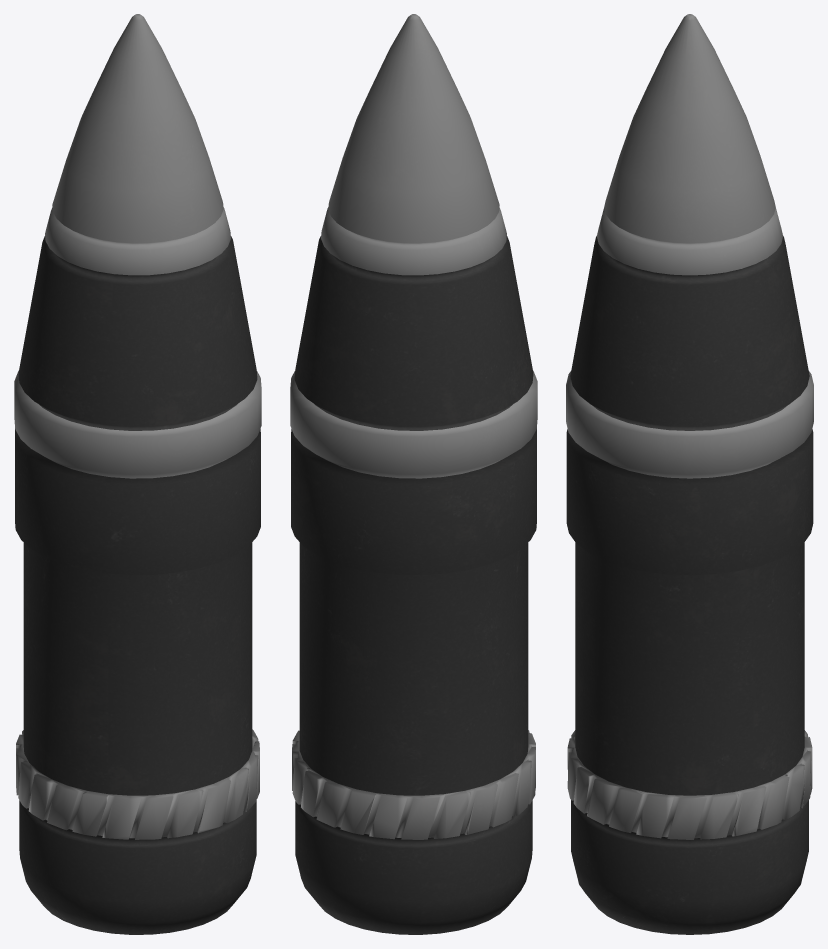
The model's file is Tankshell.fbx.
The picture shows the model from 3 angles, left to right: view 1: azimuth 30°, elevation 25°; view 2: azimuth 150°, elevation 25°; view 3: azimuth 270°, elevation 25°; orthographic projection.
Parts seen in each view (by area): view 1: Object_2; view 2: Object_2; view 3: Object_2.
Boxes of the visible parts, x1,y1,x2,y2 form: Object_2: [14, 14, 261, 934]; Object_2: [290, 14, 537, 934]; Object_2: [566, 14, 813, 934].
Bounding box in the file's own units: 58.4 × 231 × 58.4.
